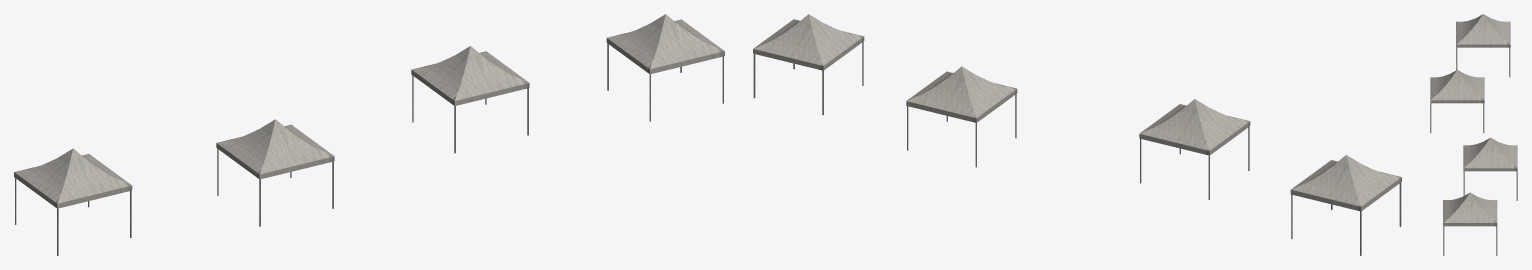
File: Tents.fbx
3 views of the same model, side by side, from view 1: azimuth 30°, elevation 25°; view 2: azimuth 150°, elevation 25°; view 3: azimuth 270°, elevation 25° (orthographic). The views are drawn at different scales.
Visible parts, largest first — view 1: StallUmbrellas; view 2: StallUmbrellas; view 3: StallUmbrellas.
Boxes of the visible parts, x1,y1,x2,y2 form: StallUmbrellas: (14,14,724,255); StallUmbrellas: (753,14,1401,255); StallUmbrellas: (1430,14,1517,255).
Bounding box in the file's own units: 3596 × 434 × 660.
